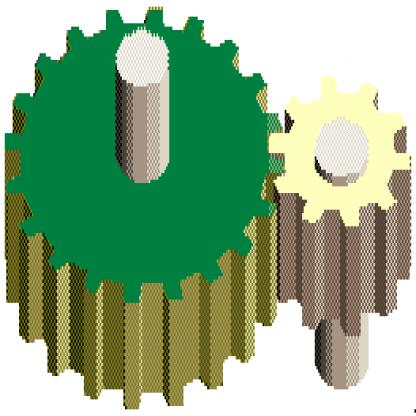FOD: (0, 0, 285, 413), (266, 70, 414, 336)
